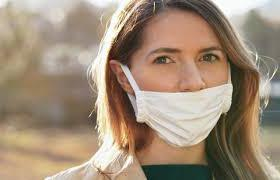mask_weared_incorrect: (122, 42, 235, 133)
